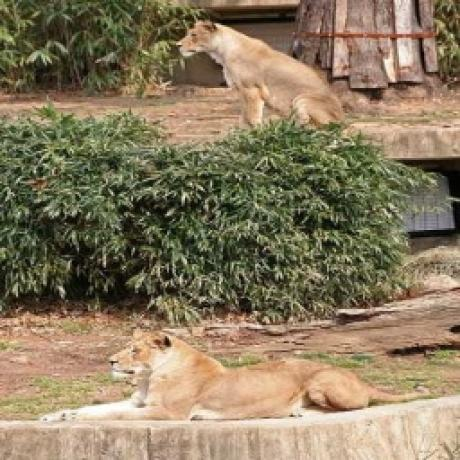Lion: (57, 311, 419, 425), (172, 13, 353, 140)
